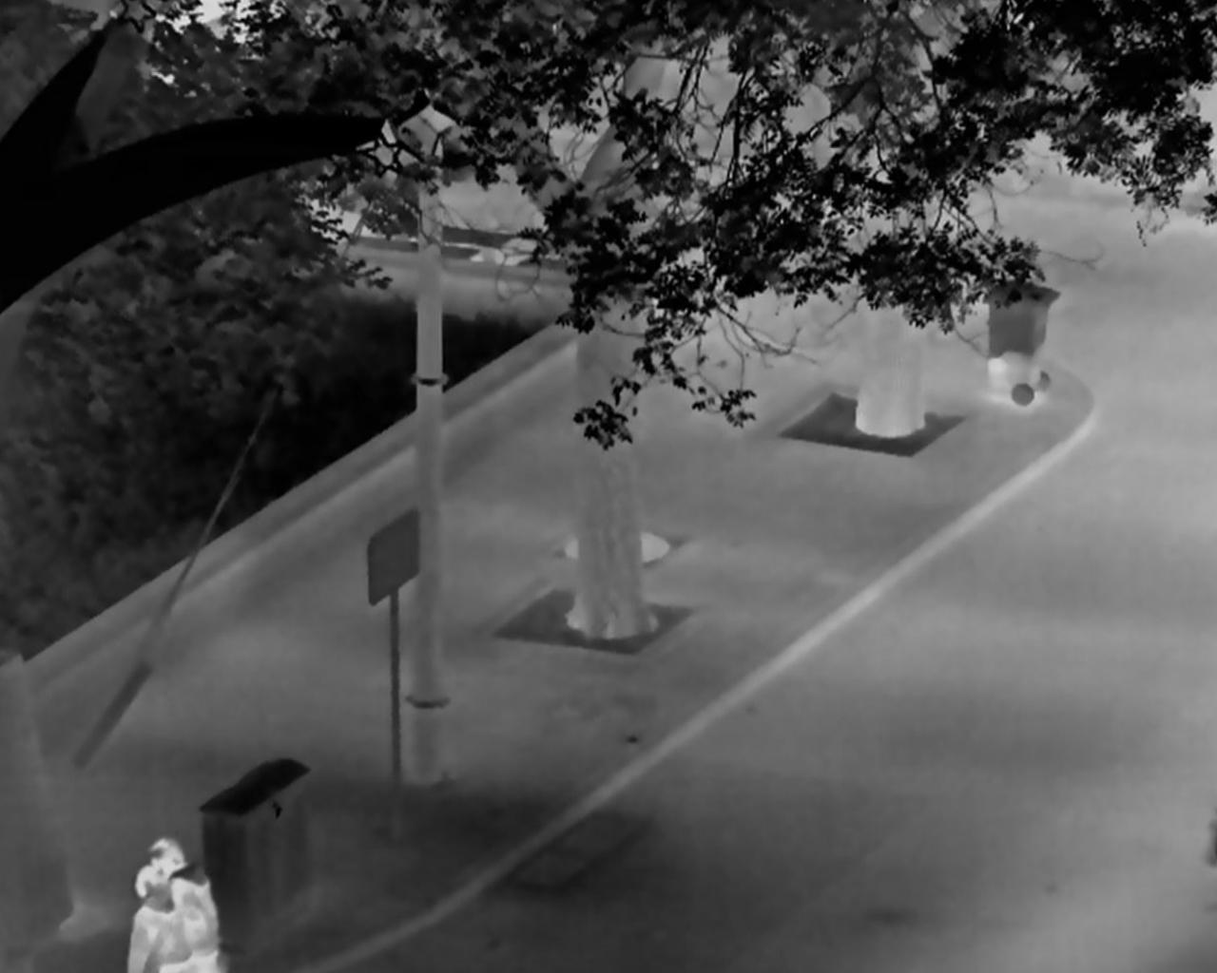person: (145, 836, 221, 973), (123, 864, 196, 973)
